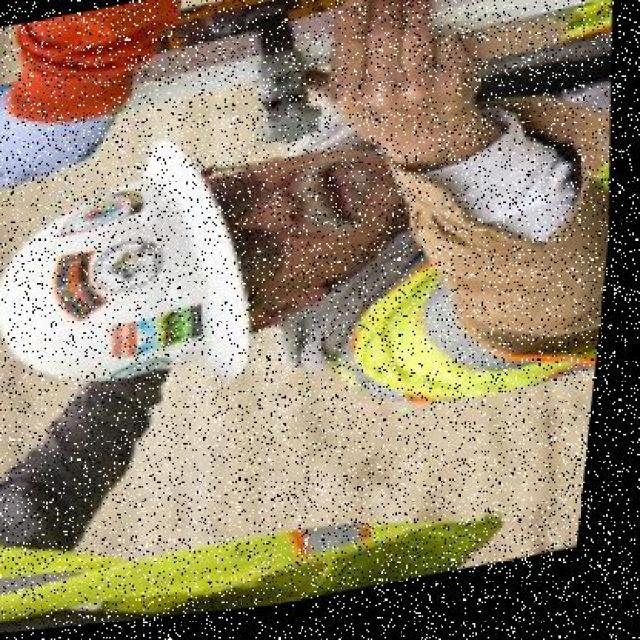helmet: (0, 137, 270, 418)
